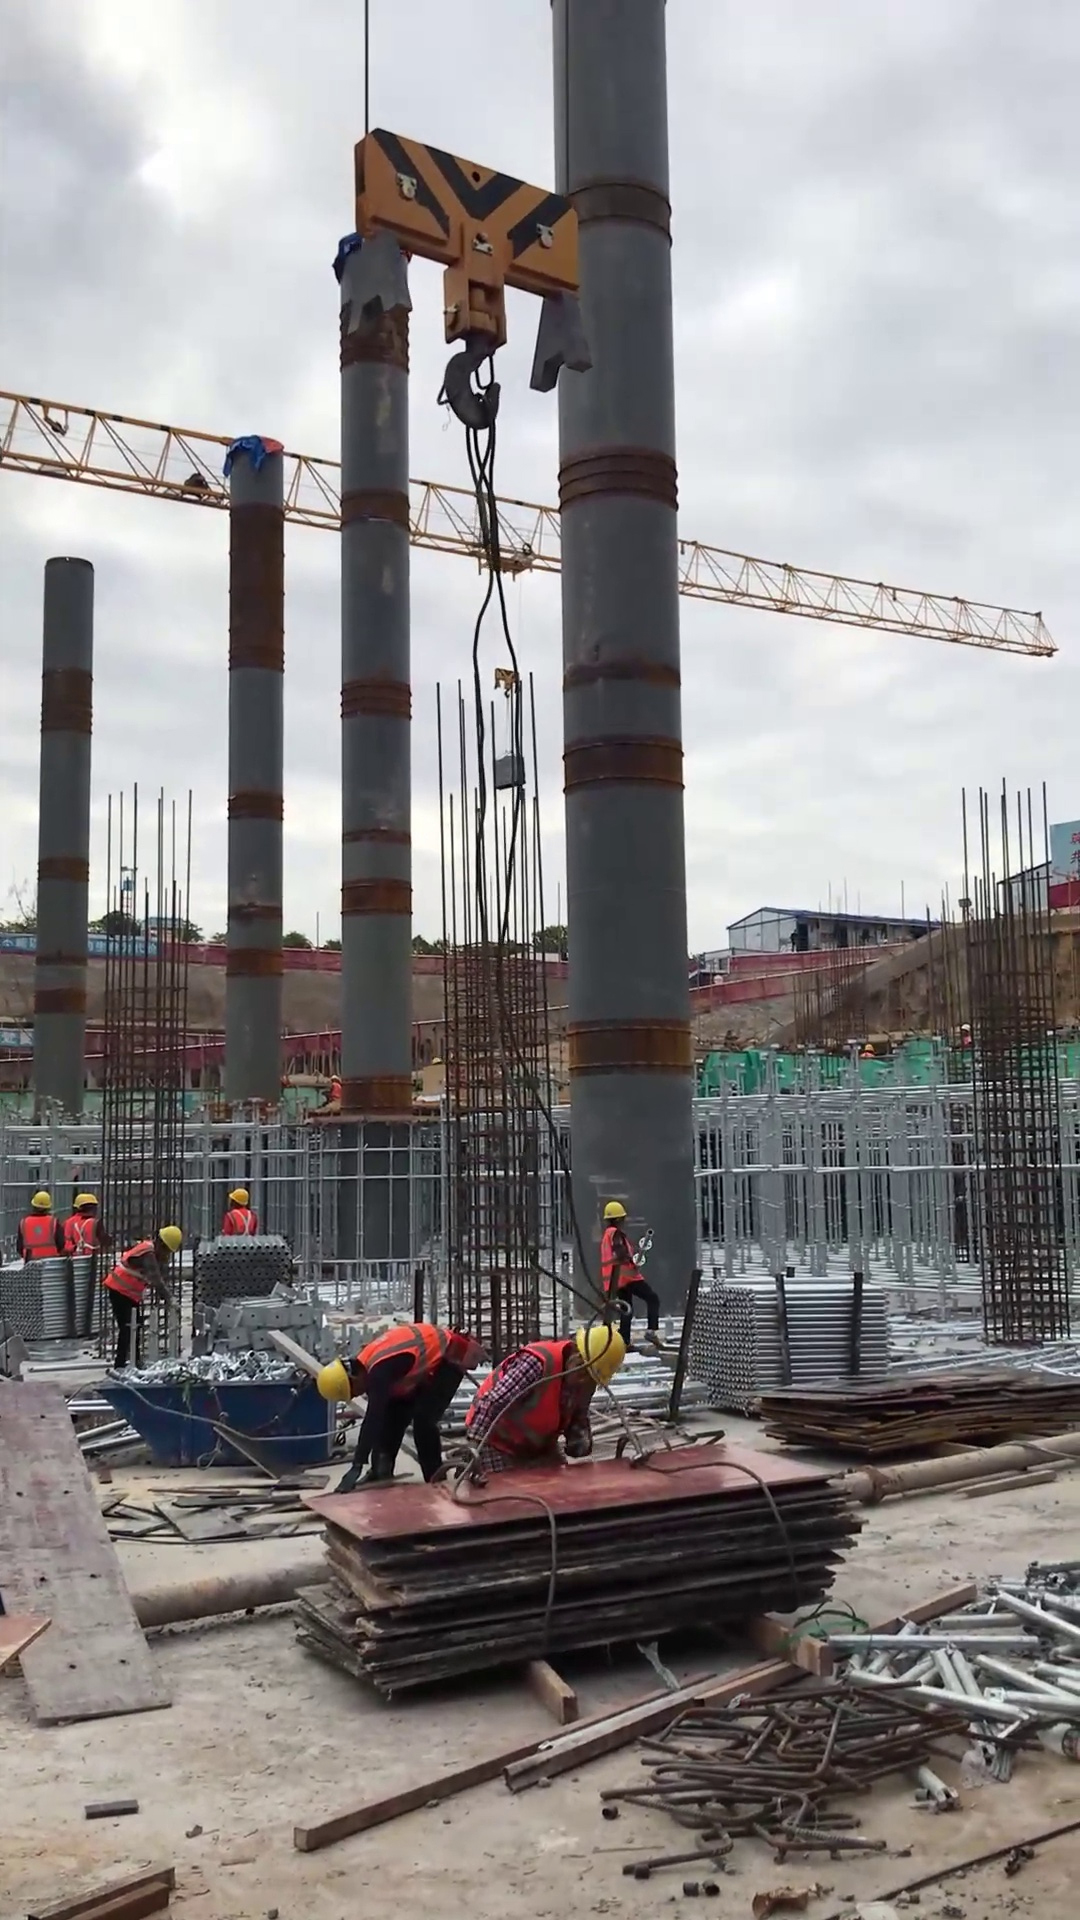board: (285, 1441, 876, 1725), (749, 1360, 1080, 1473)
helmet: (582, 1328, 626, 1386), (316, 1355, 357, 1414), (156, 1224, 187, 1254), (602, 1200, 632, 1222), (72, 1192, 102, 1214), (227, 1187, 253, 1209), (29, 1188, 52, 1212)
hook: (335, 103, 611, 439), (490, 663, 526, 703)
hopper: (99, 1360, 321, 1472)
person: (444, 1329, 629, 1497), (315, 1314, 474, 1495), (101, 1223, 187, 1378), (594, 1197, 670, 1348), (12, 1185, 69, 1266), (63, 1189, 111, 1263), (216, 1183, 262, 1242)
scaffold: (681, 1265, 895, 1413), (1, 1252, 113, 1353), (192, 1231, 299, 1308)
vest: (463, 1337, 576, 1466), (356, 1318, 465, 1399), (107, 1236, 160, 1309), (595, 1224, 645, 1295), (15, 1215, 61, 1262), (67, 1214, 98, 1258), (227, 1207, 257, 1239)
